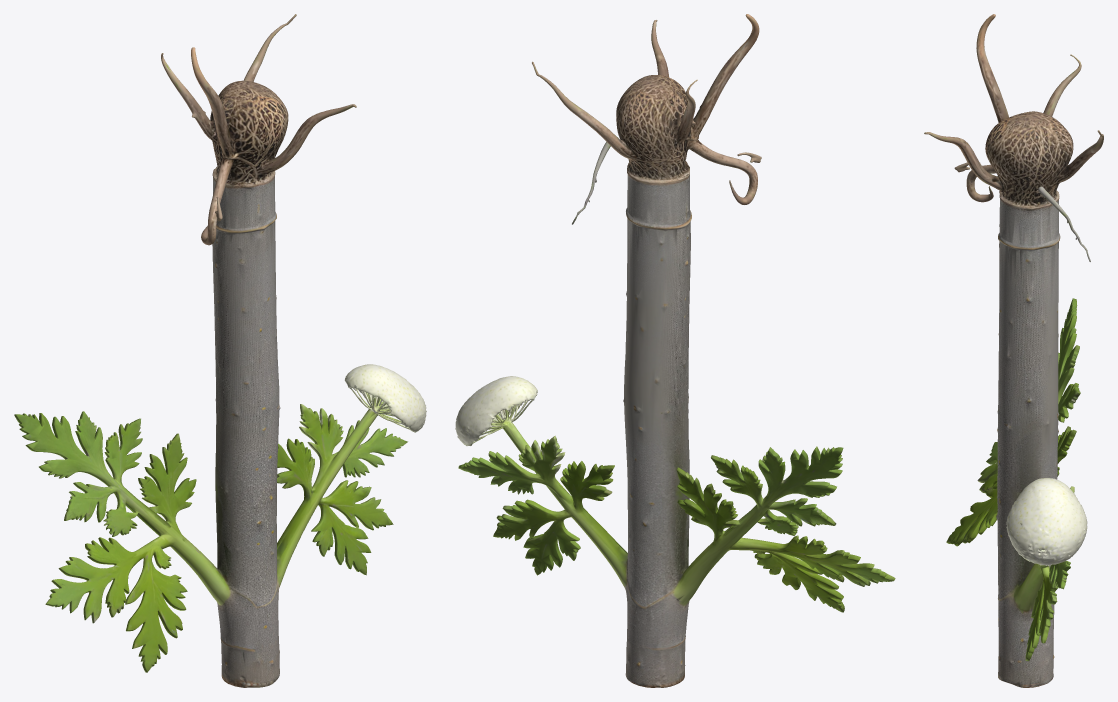
Rendered from fangfeng.glb.
3 renders of one model, left to right at view 1: azimuth 30°, elevation 25°; view 2: azimuth 150°, elevation 25°; view 3: azimuth 270°, elevation 25°, orthographic. The views are drawn at different scales.
Parts seen in each view (by area): view 1: node_0; view 2: node_0; view 3: node_0.
Part boxes in pixels (x1,y1,x2,y2): node_0: [14, 14, 426, 687]; node_0: [455, 14, 895, 687]; node_0: [924, 14, 1103, 687].
Bounding box in the file's own units: 0.7563 × 1.18 × 0.3068.
Materials: 1 (1 with a texture image).
